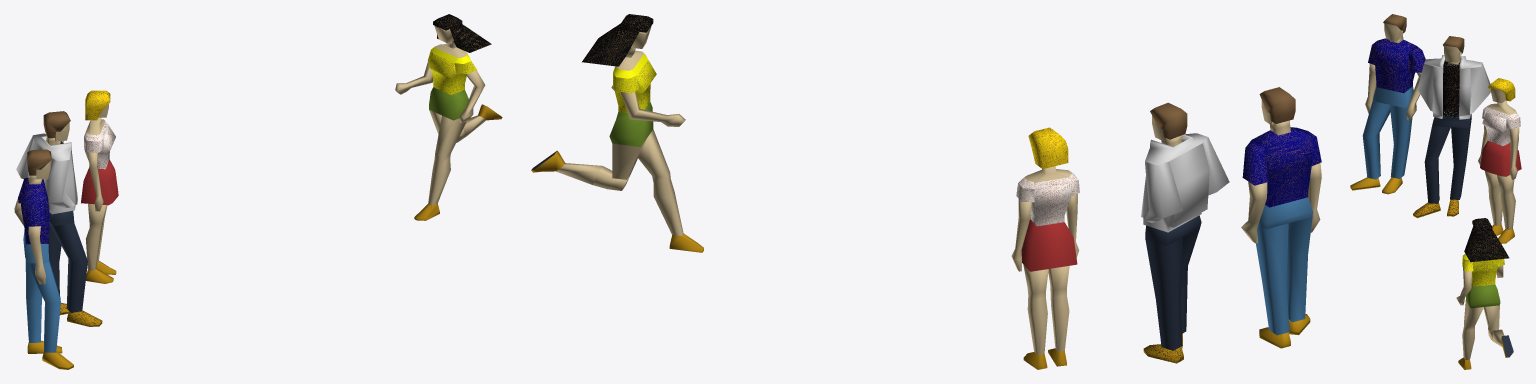
Rendered from set.dae.
3 views of the same model, side by side, from view 1: azimuth 30°, elevation 25°; view 2: azimuth 150°, elevation 25°; view 3: azimuth 270°, elevation 25° (orthographic). The views are drawn at different scales.
Parts seen in each view (by area): view 1: Group_5 (×4), Group_6 (×6), Group_3 (×4), Group_4 (×6); view 2: Group_3 (×4), Group_5 (×3), Group_4 (×7), Group_6 (×6); view 3: Group_3 (×8), Group_5 (×7), Group_4 (×10), Group_6 (×7).
Boxes of the visible parts, bbox=[...] form: Group_5 (×4): bbox=[16, 111, 102, 326]; Group_6 (×6): bbox=[395, 14, 491, 205]; Group_3 (×4): bbox=[18, 149, 60, 352]; Group_4 (×6): bbox=[81, 90, 118, 270]; Group_3 (×4): bbox=[1241, 87, 1321, 335]; Group_5 (×3): bbox=[1141, 102, 1229, 350]; Group_4 (×7): bbox=[1011, 127, 1079, 354]; Group_6 (×6): bbox=[582, 14, 685, 235]; Group_3 (×8): bbox=[1350, 14, 1425, 194]; Group_5 (×7): bbox=[1413, 36, 1490, 218]; Group_4 (×10): bbox=[1480, 78, 1521, 243]; Group_6 (×7): bbox=[1456, 218, 1513, 359].
Size of the model in its own units: 211 by 66.87 by 72.83.
